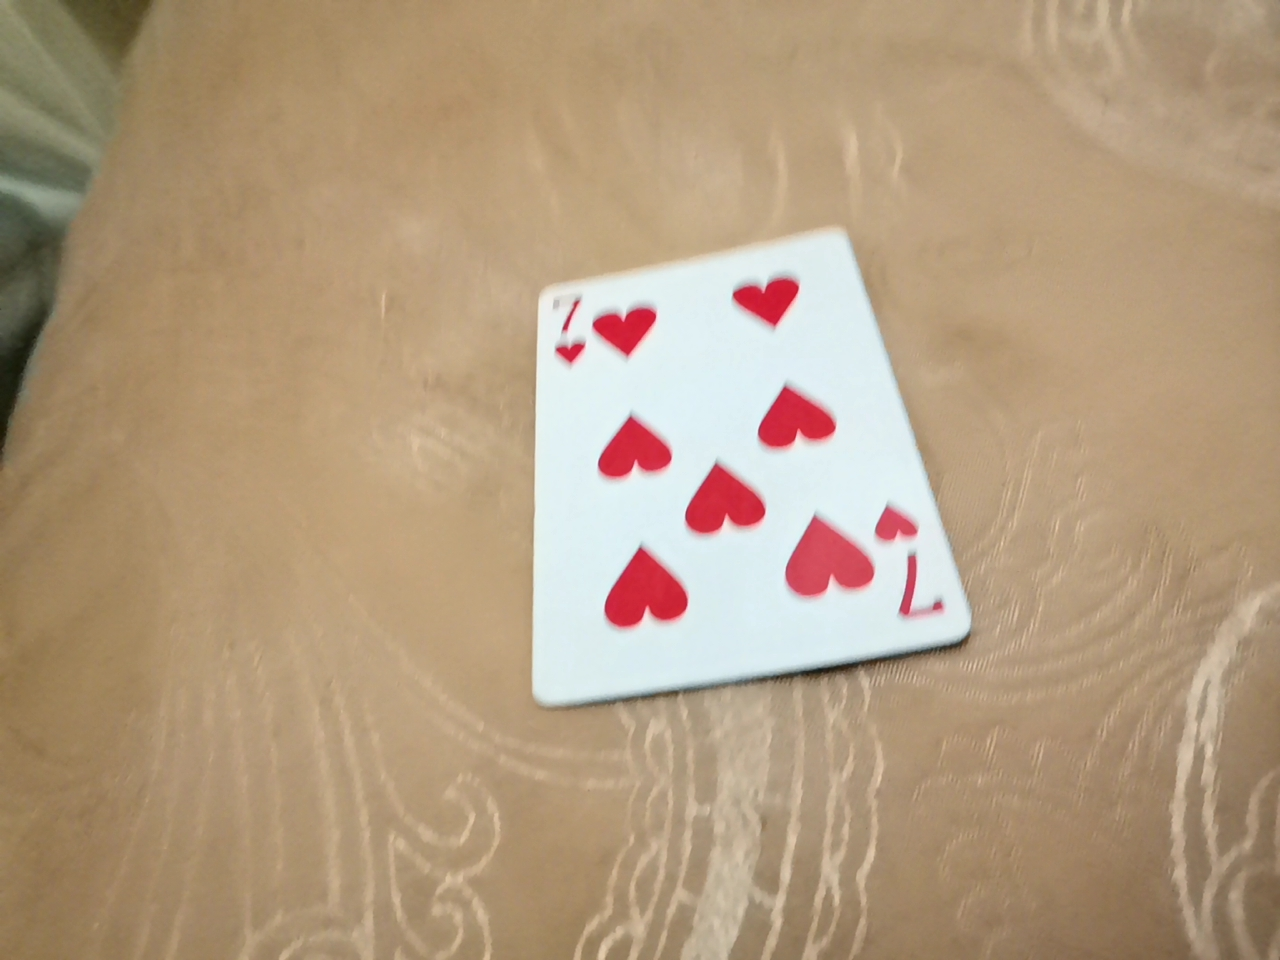hx 7: (508, 297, 935, 771)
